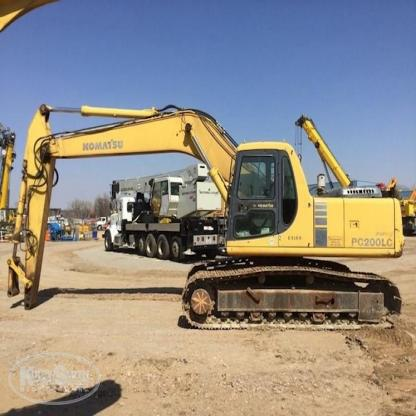excavator: (14, 85, 405, 348)
